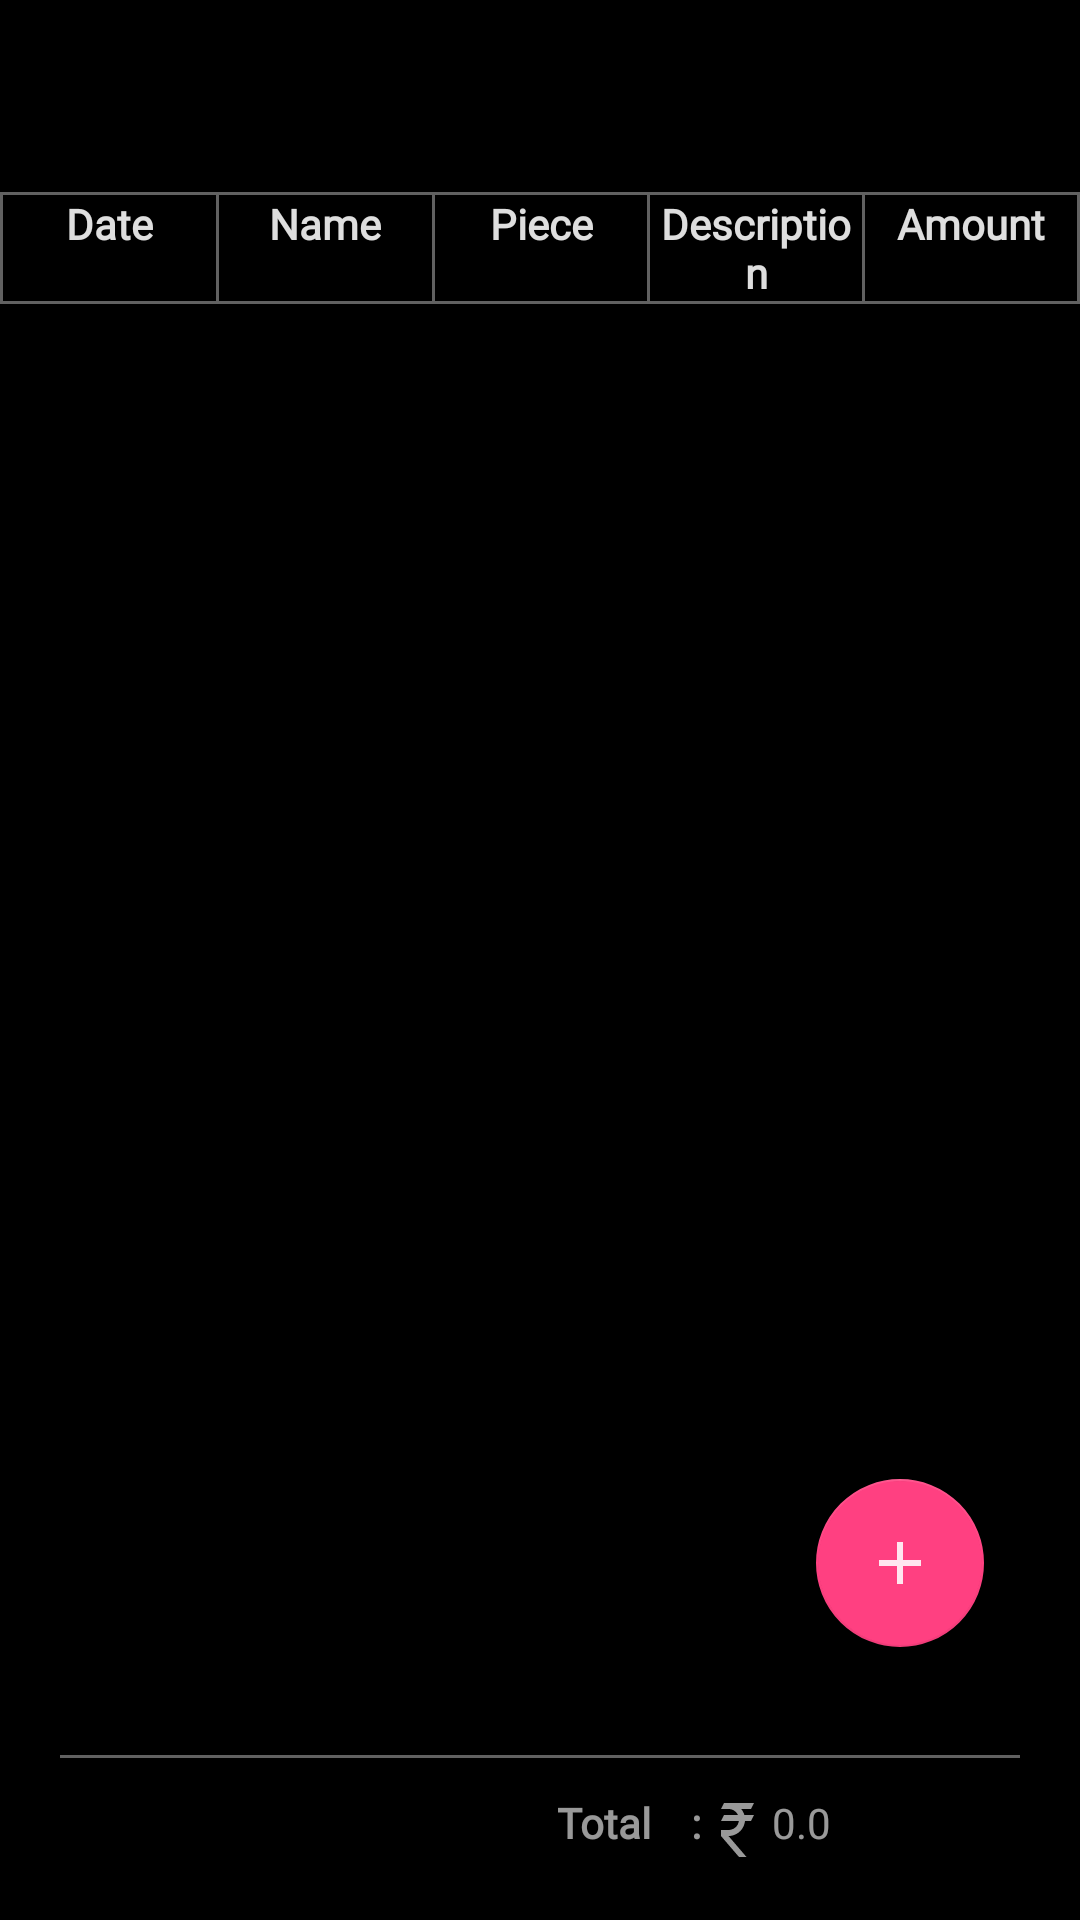

Point at icon controls on the screen. Image size 1080×1920, points as [x,y].
add: [900,1563]
